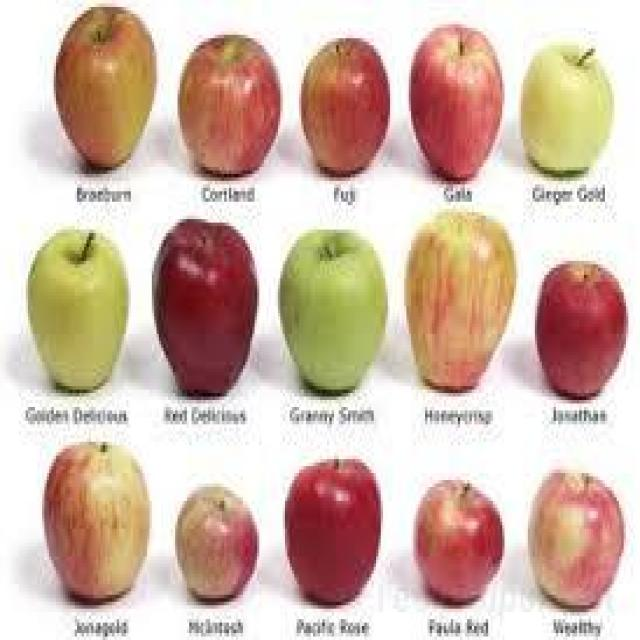apple: (402, 208, 514, 396), (170, 24, 282, 184), (145, 226, 252, 390), (47, 0, 154, 157), (42, 448, 147, 602), (278, 230, 381, 386), (23, 230, 117, 393), (528, 250, 628, 396), (411, 21, 500, 181), (282, 456, 378, 602), (530, 466, 622, 602), (518, 45, 614, 174), (301, 35, 383, 181), (173, 480, 259, 605), (411, 483, 500, 602)
